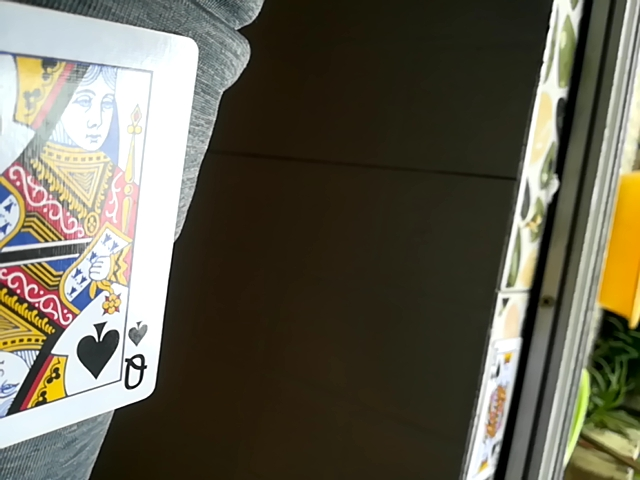ht q: (0, 2, 195, 469)
